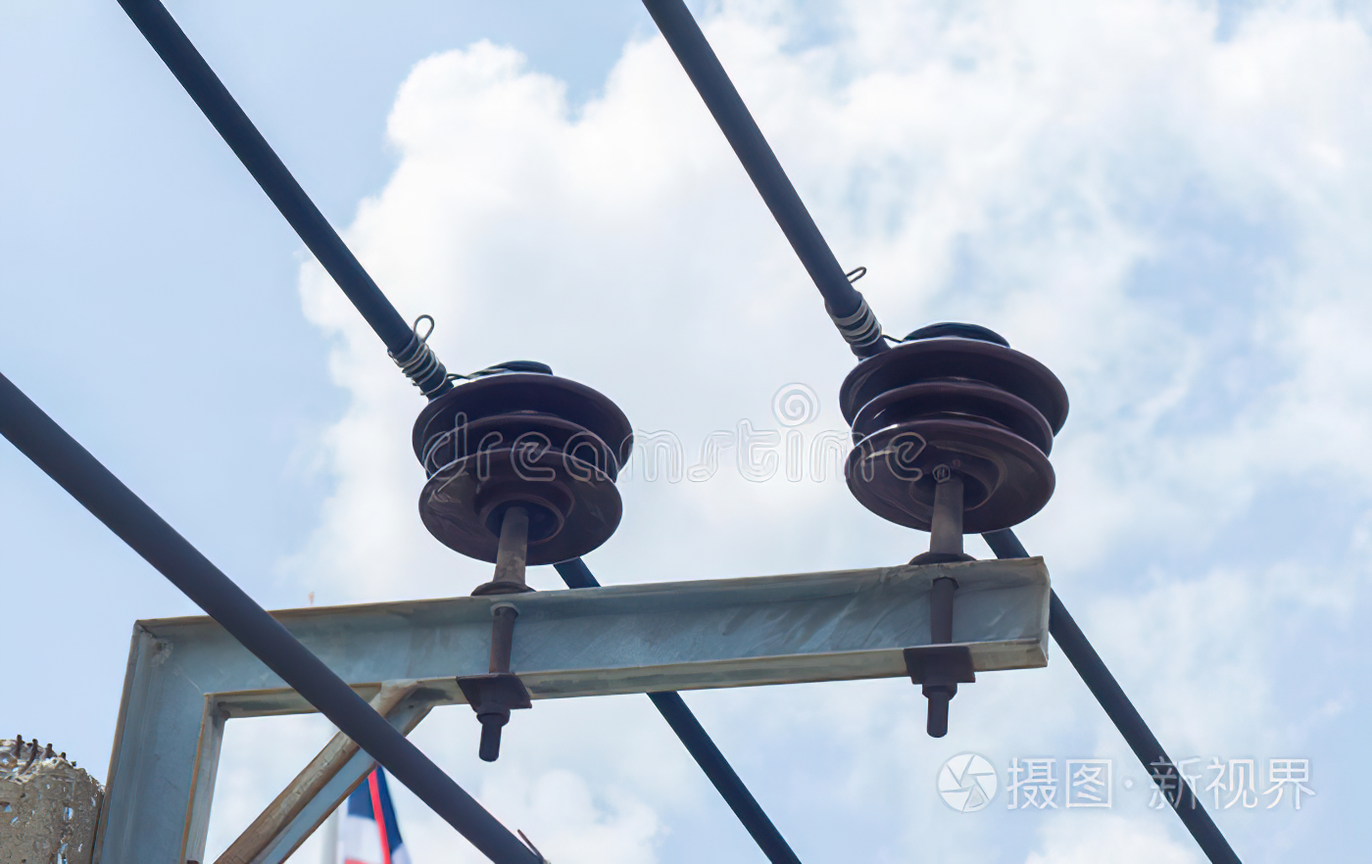insulator: (413, 369, 633, 569), (837, 335, 1061, 518)
